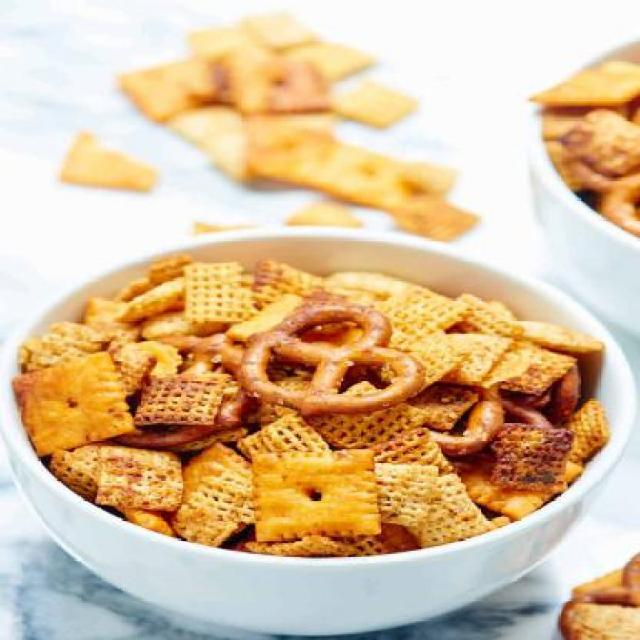Salatini packaged: (31, 140, 287, 268)
